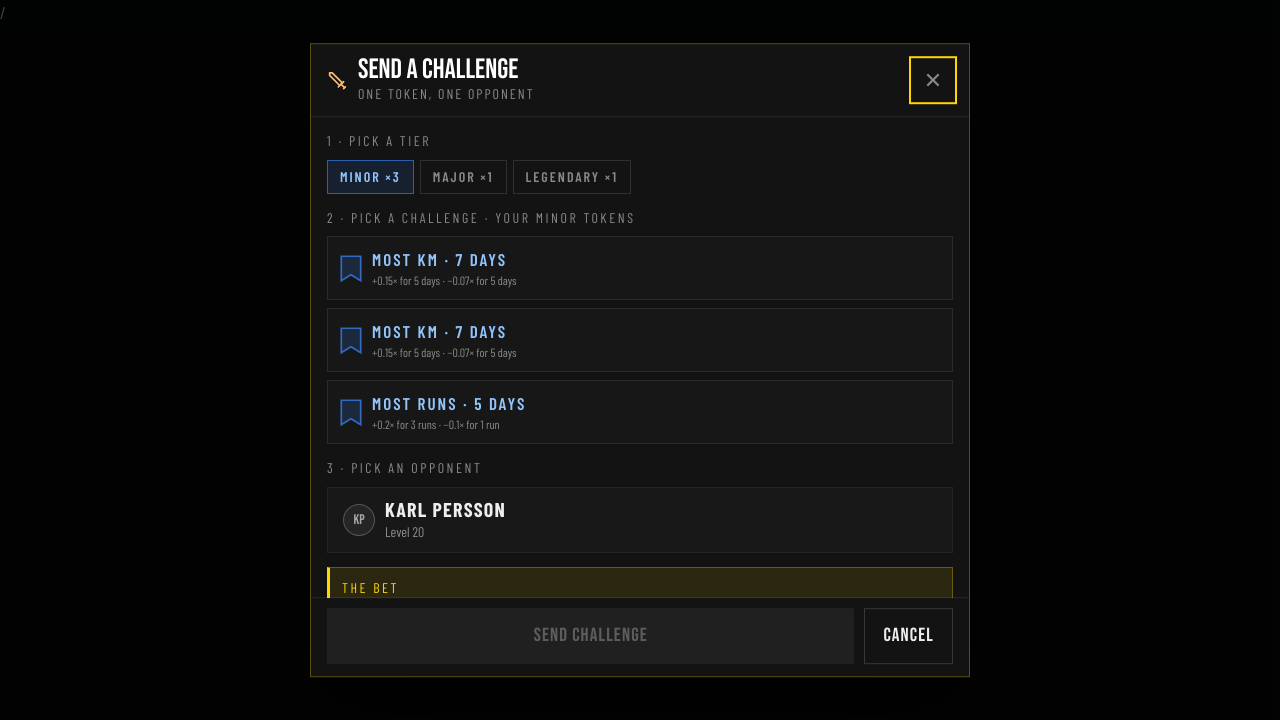
it: Send flow step 2: one card per token › the cards are a radiogroup with aria-checked, and the chosen card shows a check and the text Selected
Check: the text "Selected" is not shown
Click the radio button labelled "Most runs · 5 days +0.2× for 3 runs · −0.1× for 1 run": (640, 412) [327, 380, 953, 444]
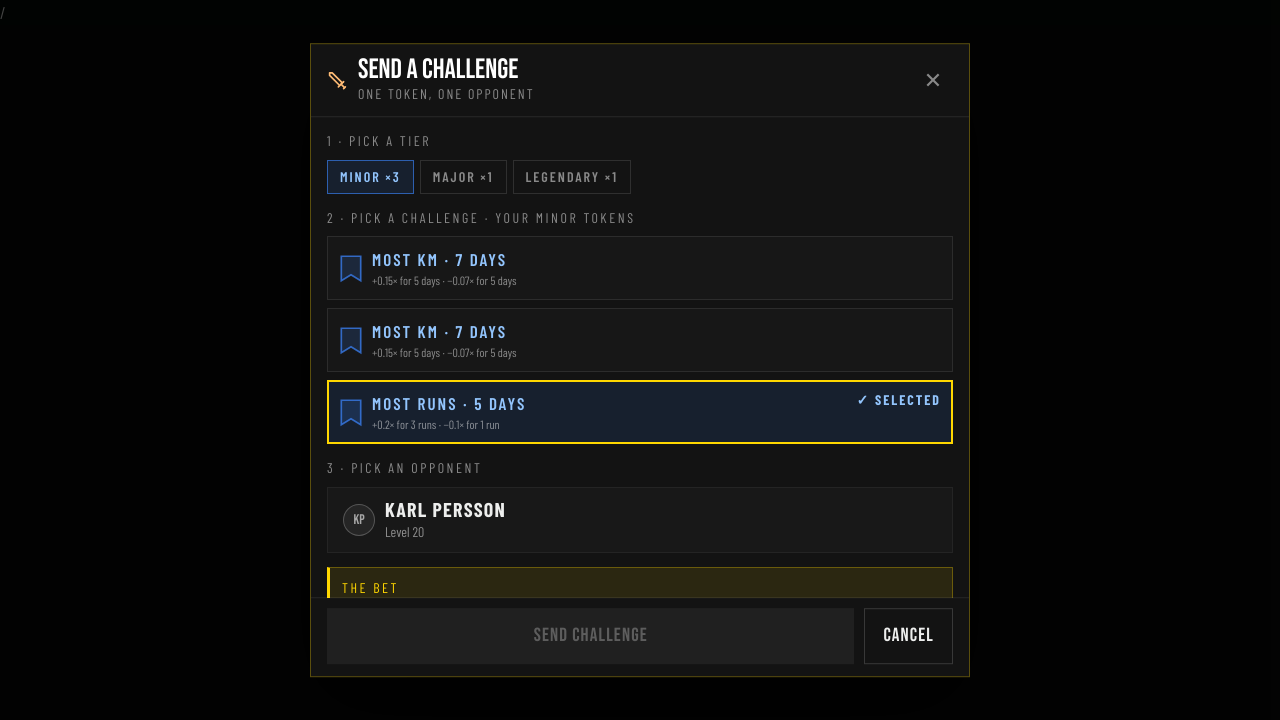
Check: the text "✓ Selected" is shown once, box [857, 390, 941, 411]
Check: the text "✓ Selected" is shown, box [857, 390, 941, 411]
